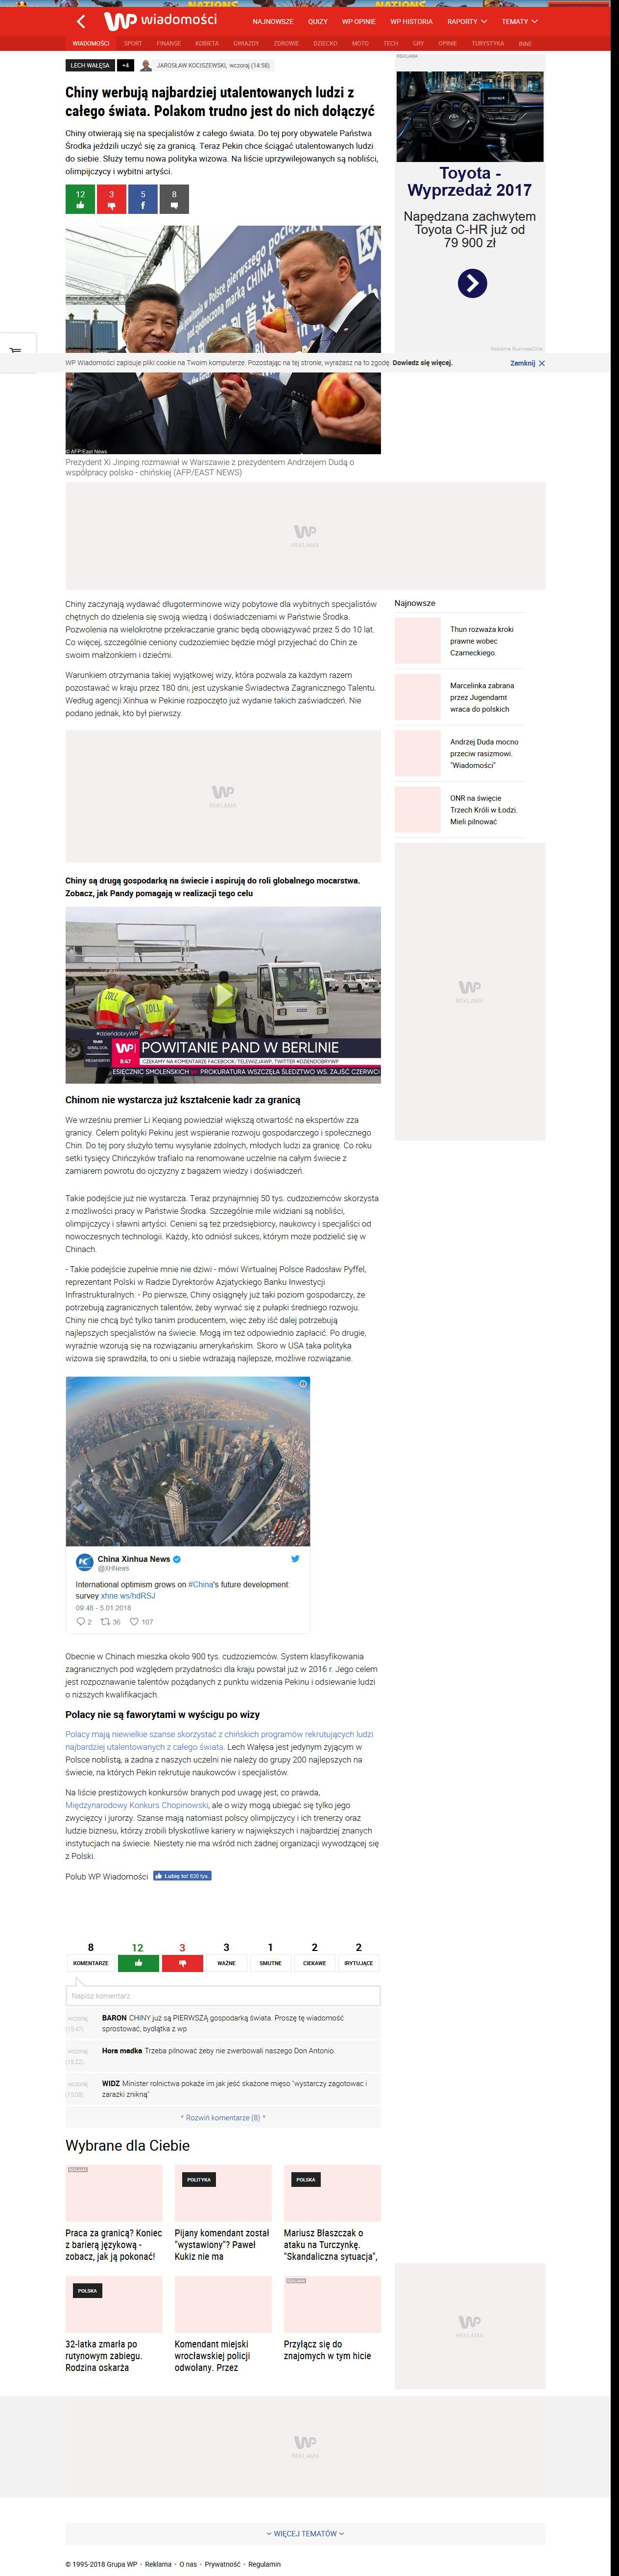title: (66, 85, 376, 120)
